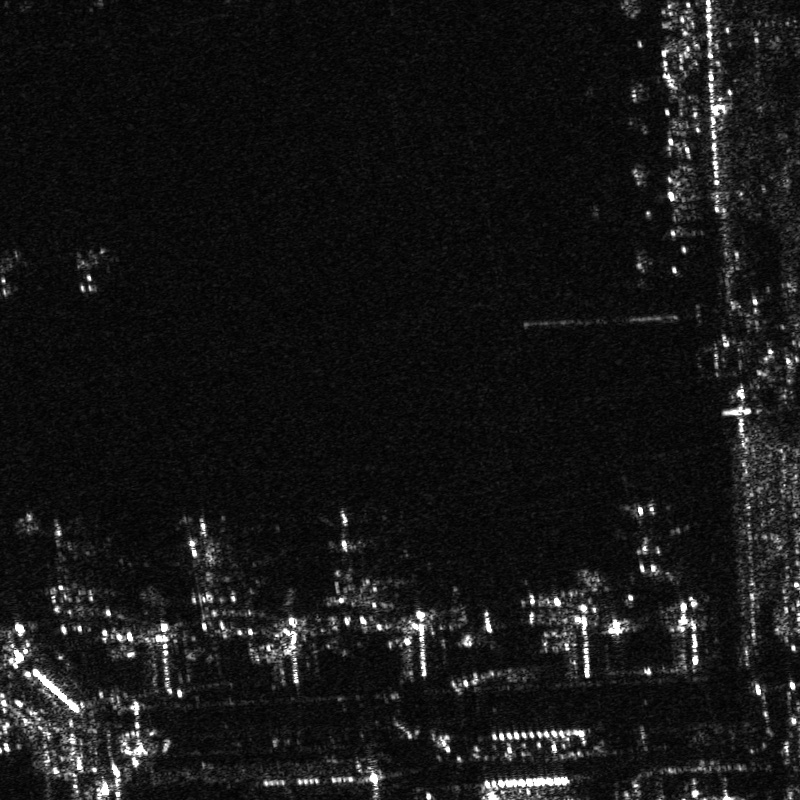A220: (596, 498, 692, 587)
A320/321: (69, 244, 116, 299)
Boeing787: (308, 503, 387, 616)
other: (168, 512, 248, 638), (18, 511, 99, 611)
